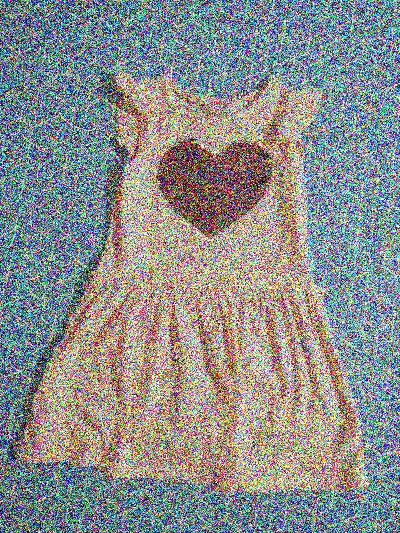Dress: (25, 56, 371, 505)
